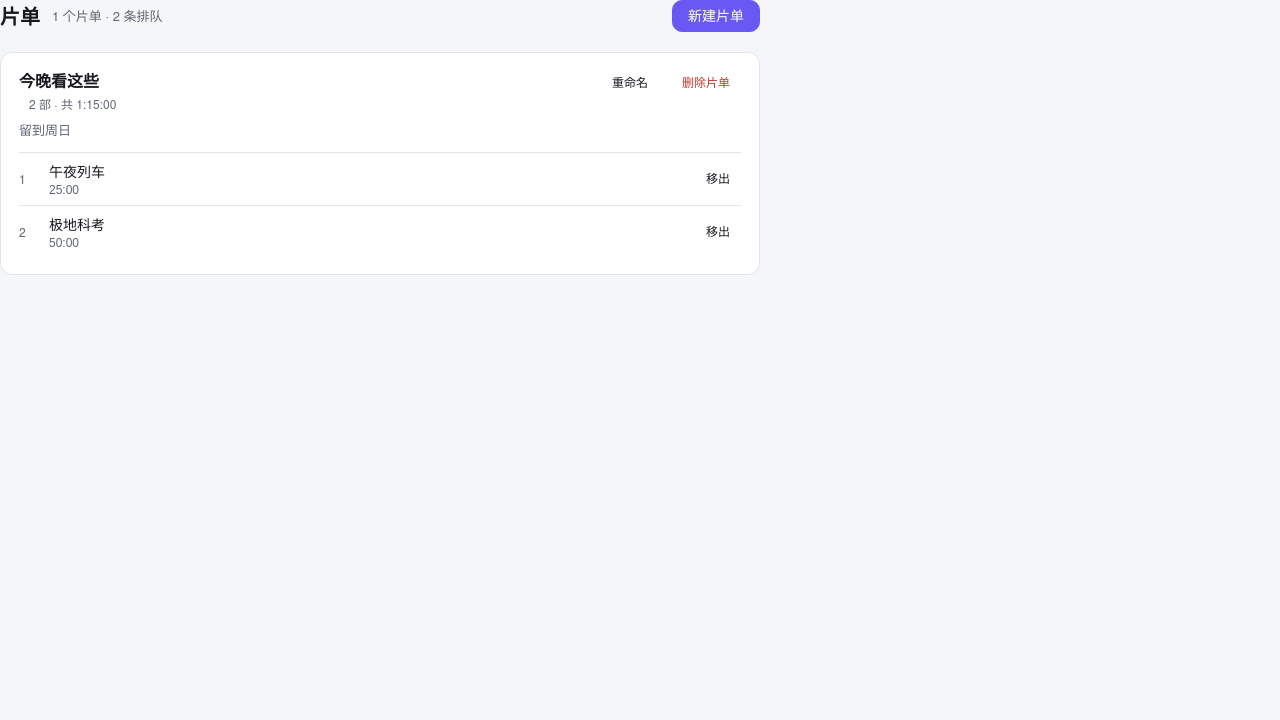
Test: Watchlists view › renames a list and keeps its note
This screenshot has width=1280, height=720.
Click the button "重命名".
click(630, 83)  # box x1=601 y1=71 x2=659 y2=95
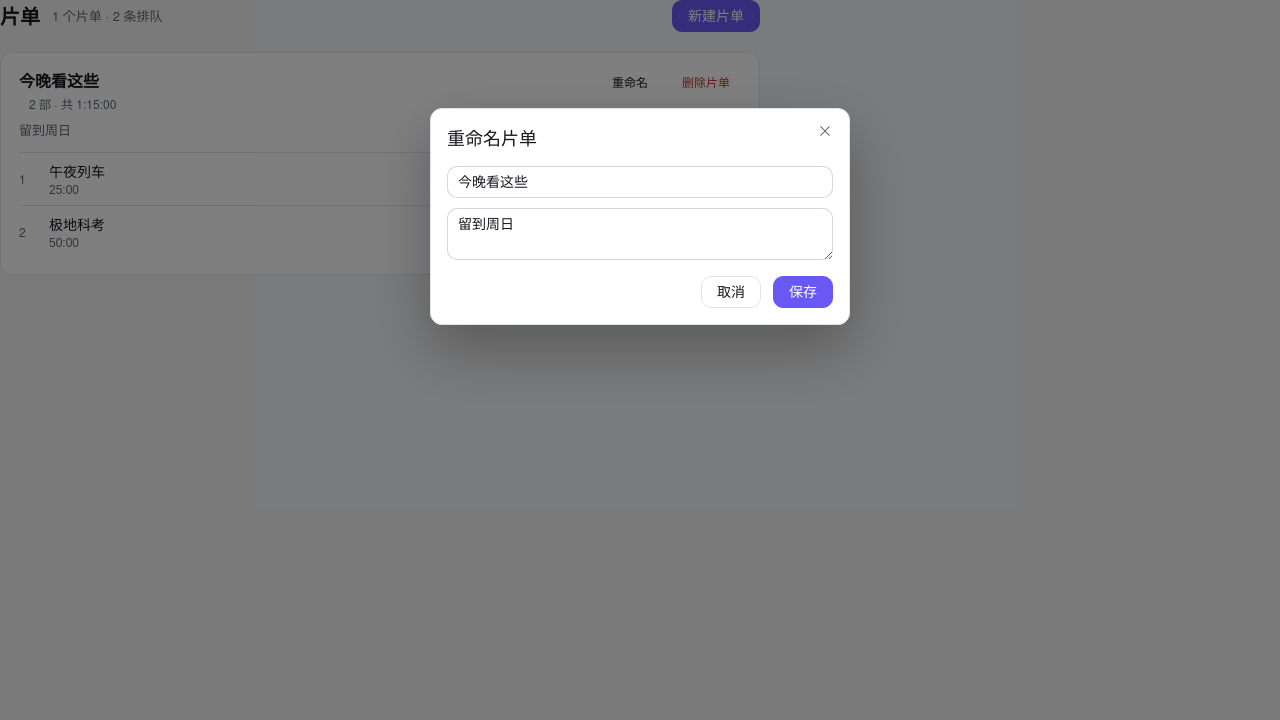
Now the field holds "今晚看这些"
Replace the text in the field with "周末电影" at (640, 182), box x1=458 y1=167 x2=822 y2=197
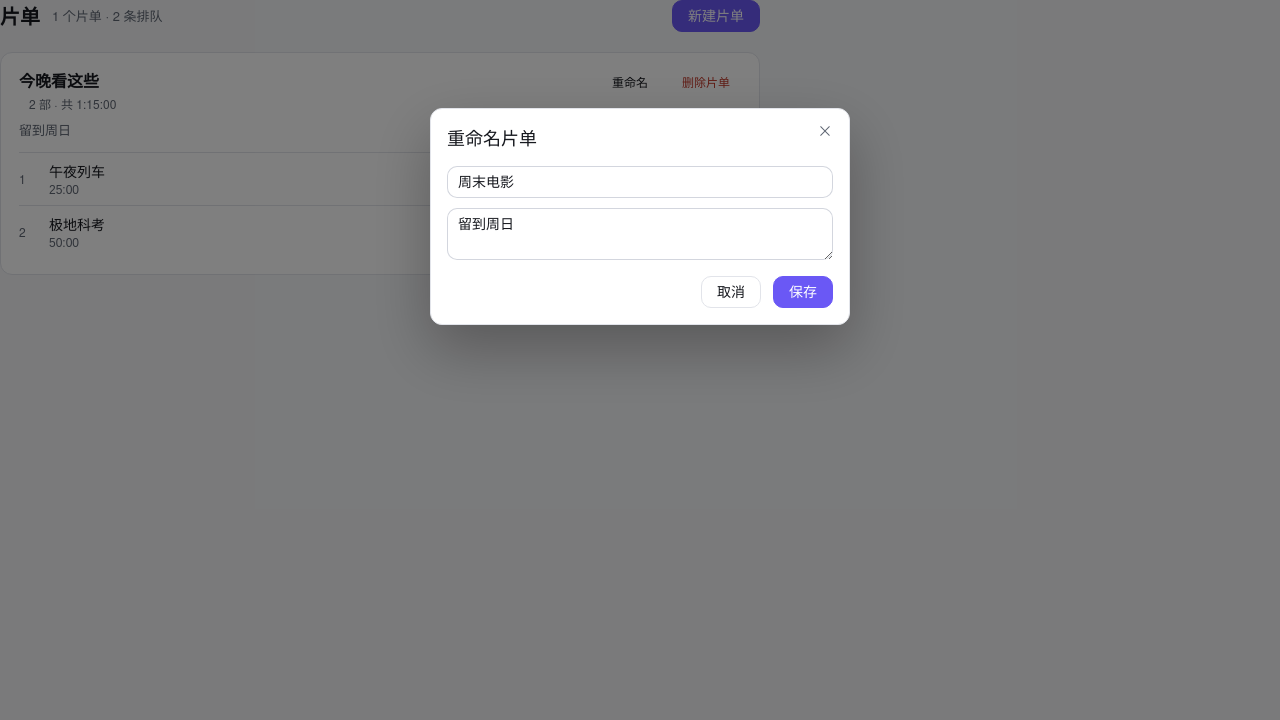
Click the button "保存".
click(803, 292)  # box x1=773 y1=276 x2=833 y2=308
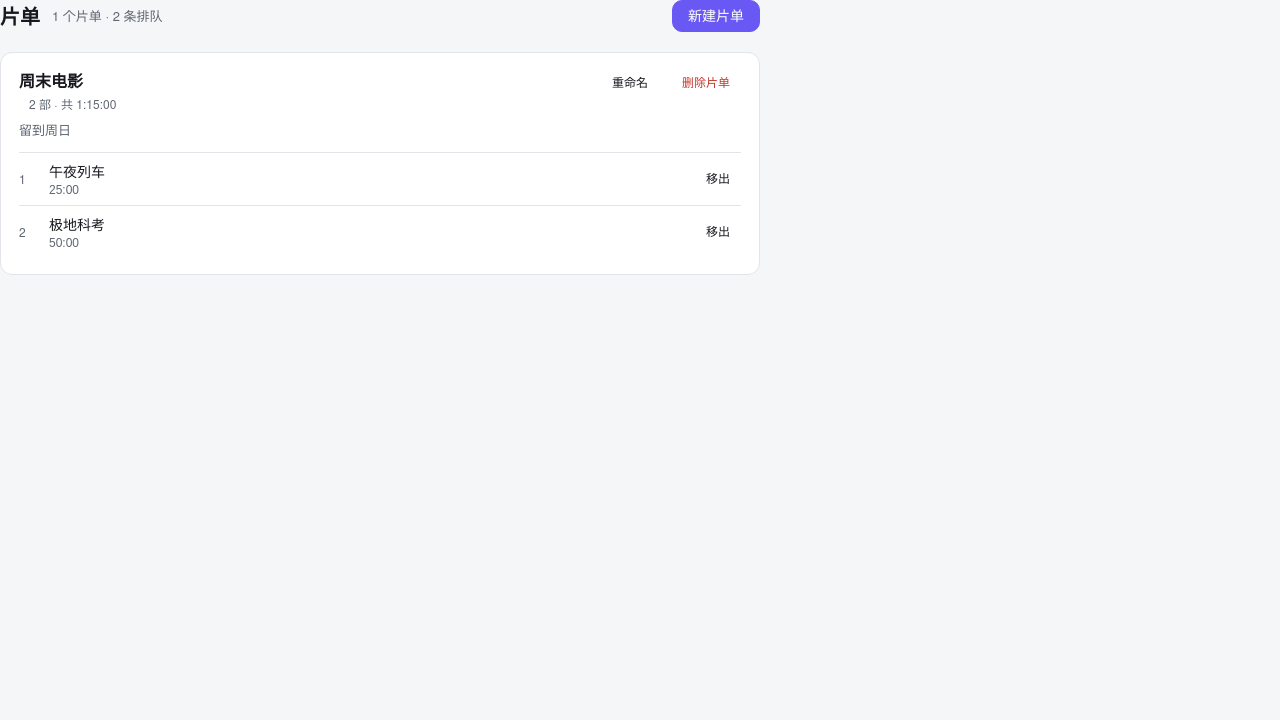
Expected: the text with class "list-desc" reads "留到周日", x1=19 y1=120 x2=71 y2=139
Now the heading with class "list-name" reads "周末电影", box x1=19 y1=69 x2=83 y2=92
